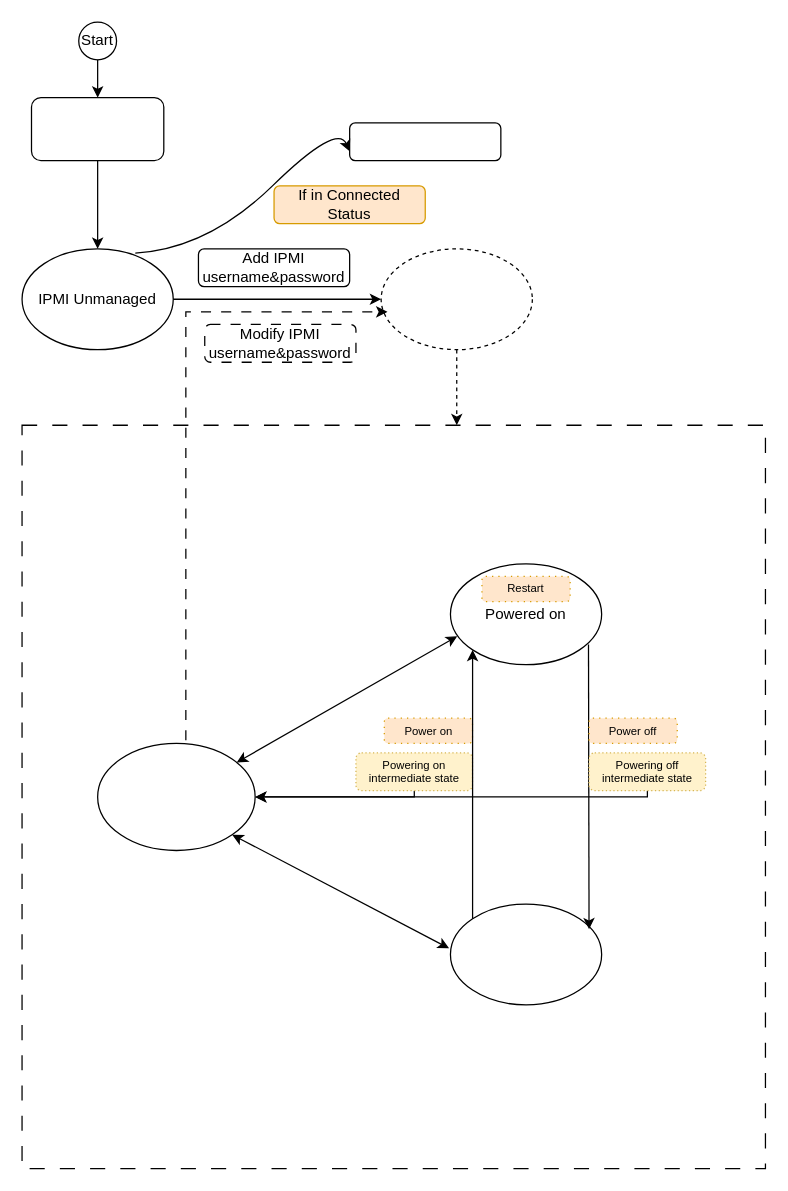
The diagram is 788 pixels wide and 1191 high, and some of its shapes have lost their labels. The centre of each missing label's shape, as x and y in pixels:
"Add Host" belongs at point (97, 128).
"IPMI managed" belongs at point (456, 299).
"Power off/Restart" belongs at point (424, 141).
"Powered off" belongs at point (525, 954).
"Unknown" belongs at point (175, 796).
